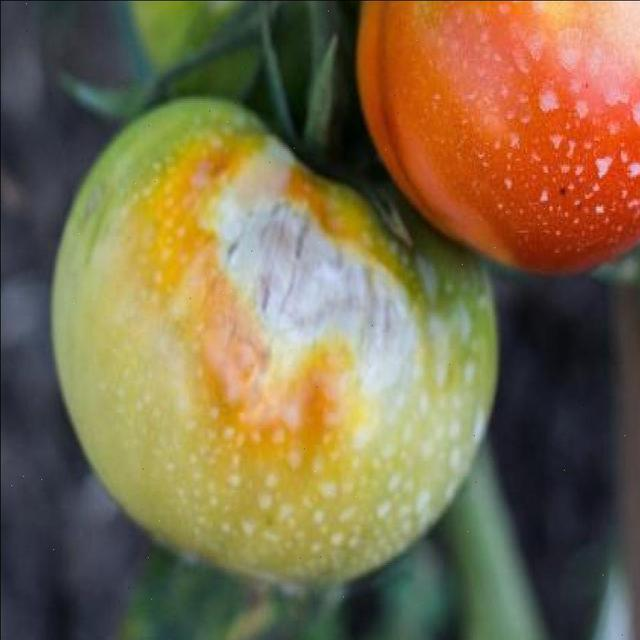Healthy Fruit: (238, 0, 427, 183)
